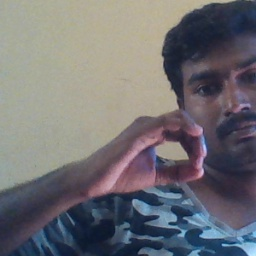O: (91, 110, 209, 194)
